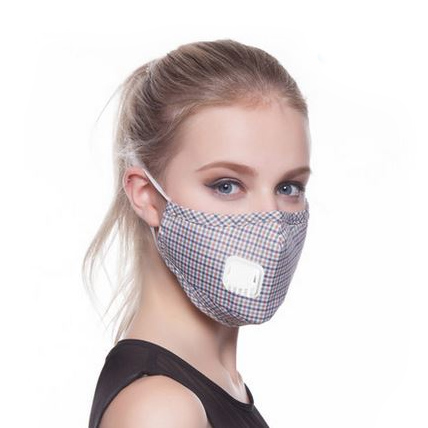face_mask: (162, 102, 311, 312)
